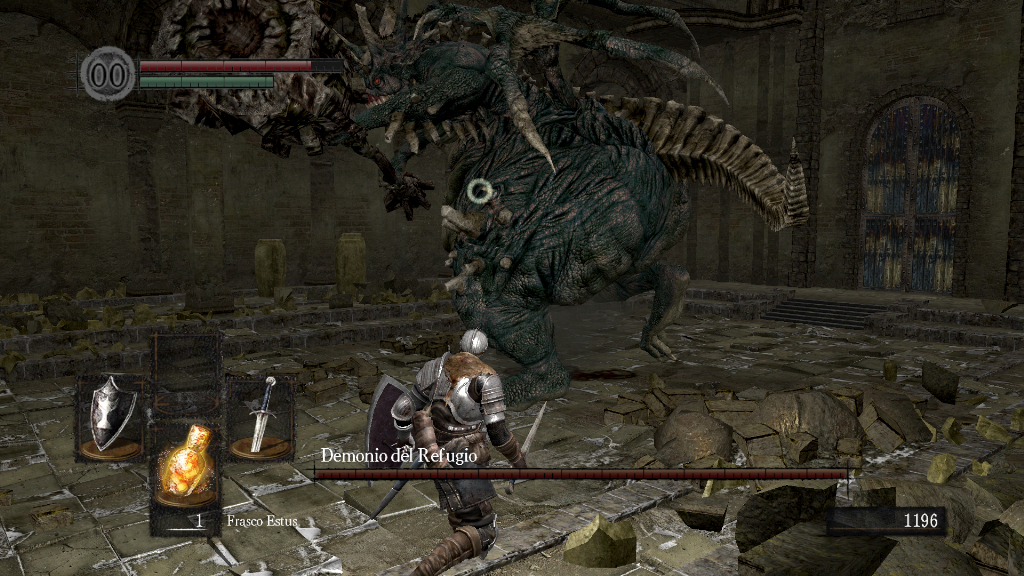asylumDemon: (148, 1, 815, 415)
bossHP: (314, 469, 847, 479)
health: (138, 58, 343, 71)
humanity: (80, 45, 136, 102)
player: (363, 328, 549, 576)
souls: (825, 506, 945, 536)
stamina: (138, 74, 274, 88)
